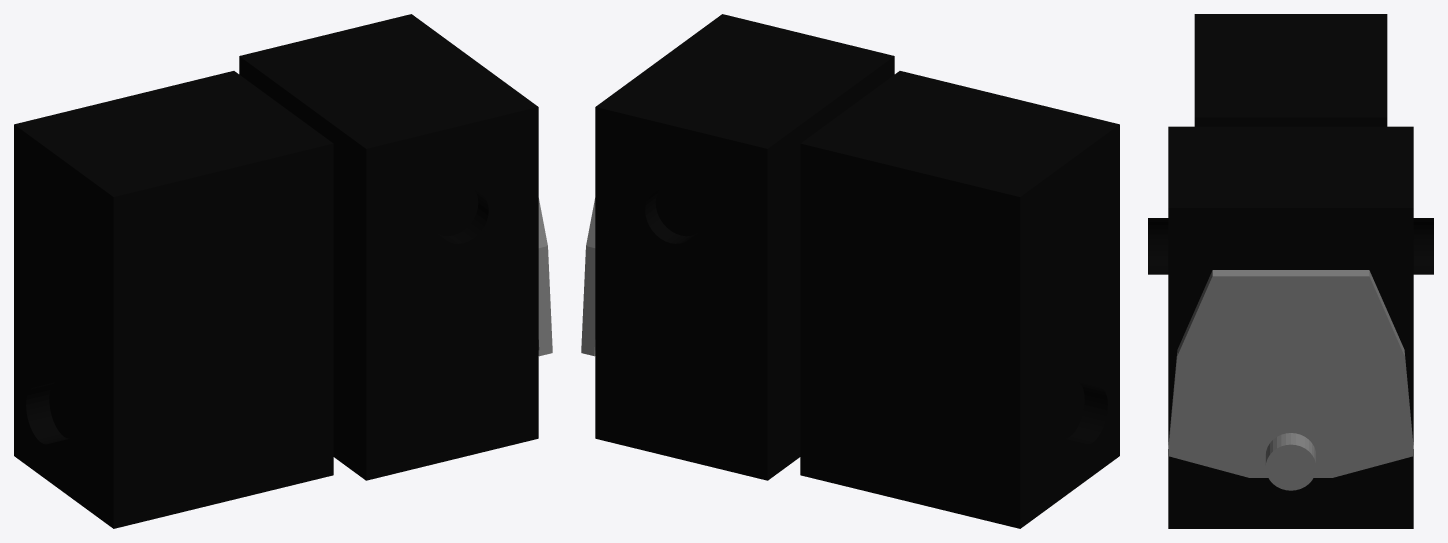
Rendered from leg_pitch_l.dae.
3 renders of one model, left to right at view 1: azimuth 30°, elevation 25°; view 2: azimuth 150°, elevation 25°; view 3: azimuth 270°, elevation 25°, orthographic. The views are drawn at different scales.
Visible parts, largest first — view 1: leg_pitch_l; view 2: leg_pitch_l; view 3: leg_pitch_l.
Part boxes in pixels (x1=…): leg_pitch_l: x1=14, y1=14, x2=552, y2=528; leg_pitch_l: x1=581, y1=14, x2=1119, y2=528; leg_pitch_l: x1=1148, y1=14, x2=1433, y2=528.
Bounding box in the file's own units: 0.0536 × 0.029 × 0.0359.
1 material, 1 textured.
